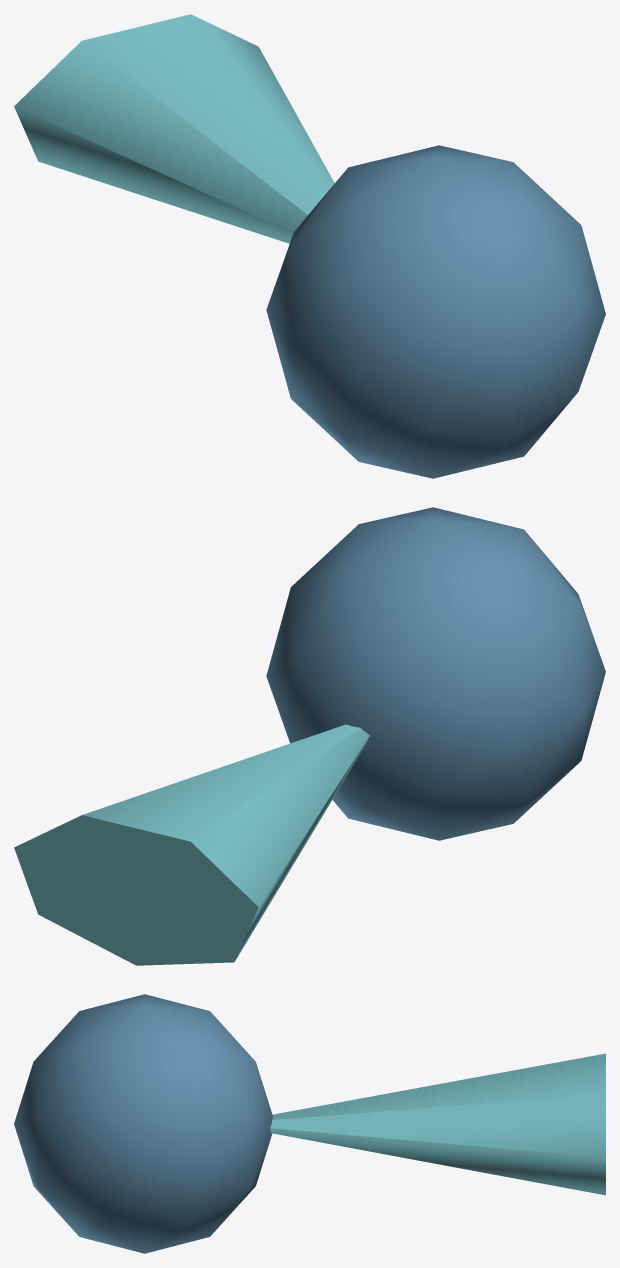
File: wpn_r_10.glb
3 views of the same model, one above another, from view 1: azimuth 30°, elevation 25°; view 2: azimuth 150°, elevation 25°; view 3: azimuth 270°, elevation 25° (orthographic). The views are drawn at different scales.
Visible parts, largest first — view 1: projectile_core, projectile_trail; view 2: projectile_core, projectile_trail; view 3: projectile_core, projectile_trail.
Part boxes in pixels (x1=…): projectile_core: x1=266, y1=145, x2=605, y2=478; projectile_trail: x1=14, y1=14, x2=334, y2=243; projectile_core: x1=266, y1=507, x2=605, y2=840; projectile_trail: x1=14, y1=724, x2=369, y2=965; projectile_core: x1=14, y1=994, x2=273, y2=1253; projectile_trail: x1=270, y1=1053, x2=605, y2=1195.
Size of the model in its own units: 0.34 by 0.34 by 0.77.
